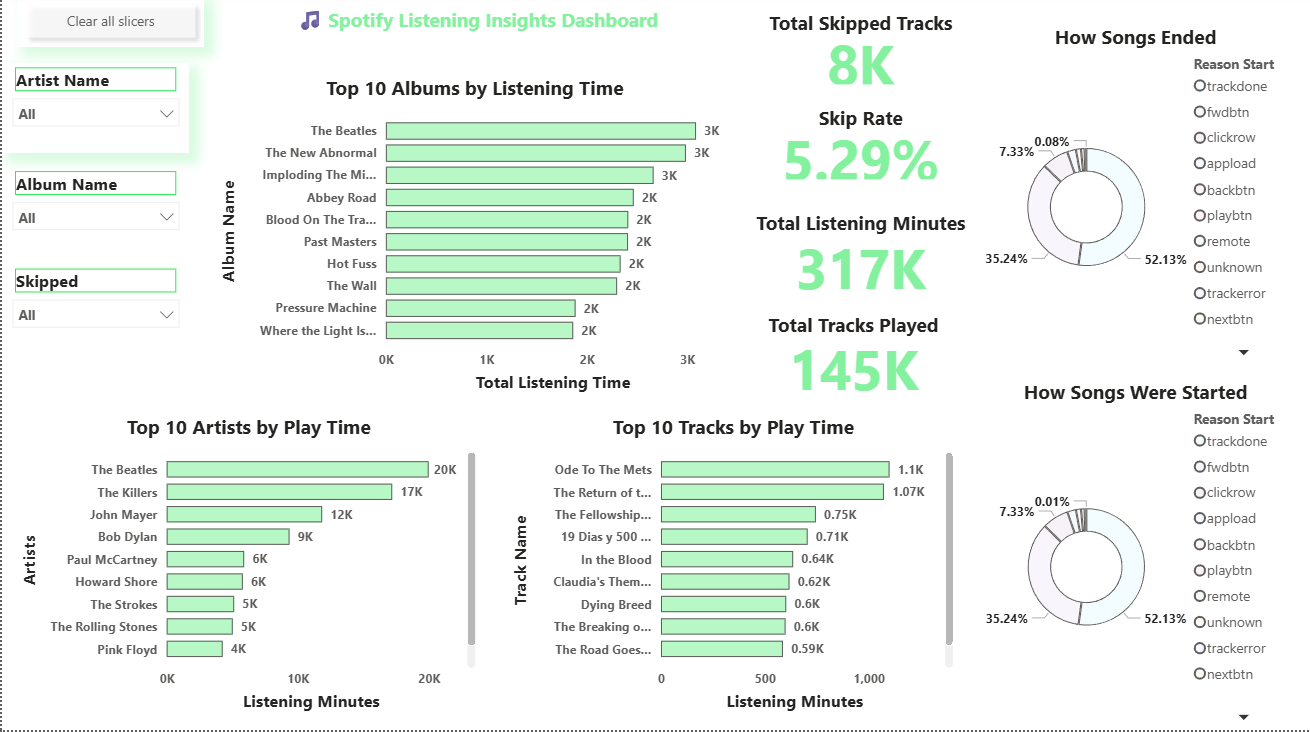

Layout of this report page (visuals, bound fields, positions):
{"tool":"powerbi","page":{"name":"Overview ","canvas":[1280,720],"ordinal":0},"visuals":[{"type":"card","title":"Total Tracks Played","fields":{"Values":["Measures (2).Total Tracks Played"]},"box":[715.8,309.5,235.4,83.5],"z":0,"group":"g1"},{"type":"card","title":"Skip Rate","fields":{"Values":["Measures (2).Skip Rate"]},"box":[731,108.2,220.2,77.8],"z":1,"group":"g1"},{"type":"card","title":"Total Skipped Tracks","fields":{"Values":["Measures (2).Skipped Tracks"]},"box":[731,15.2,220.2,77.8],"z":2,"group":"g1"},{"type":"card","title":"Total Listening Minutes","fields":{"Values":["Measures (2).Listening Minutes"]},"box":[731,210.8,220.2,85.4],"z":3,"group":"g1"},{"type":"donutChart","title":"How Songs Were Started","fields":{"Category":["spotify_cleaned.reason_start"],"Y":["Measures (2).Total Tracks Played"]},"box":[951.2,375.9,315.2,343.6],"z":4},{"type":"donutChart","title":"How Songs Ended","fields":{"Category":["spotify_cleaned.reason_start"],"Y":["Measures (2).Total Tracks Played"]},"box":[951.2,28.5,315.2,334.2],"z":5},{"type":"clusteredBarChart","title":"Top 10 Artists by Play Time","fields":{"Y":["Measures (2).Listening Minutes"],"Category":["spotify_cleaned.artist_name"]},"box":[15.2,410.1,453.8,296.2],"z":6},{"type":"clusteredBarChart","title":"Top 10 Tracks by Play Time","fields":{"Y":["Measures (2).Listening Minutes"],"Category":["spotify_cleaned.track_name"]},"box":[495.5,410.1,440.5,296.2],"z":7},{"type":"clusteredBarChart","title":"Top 10 Albums by Listening Time","fields":{"Category":["spotify_cleaned.album_name"],"Y":["Measures (2).Listening Minutes"]},"box":[208.8,77.8,506.9,315.2],"z":8},{"type":"group","id":"g1","title":"Group 1","box":[715.8,15.2,235.4,377.8],"z":9},{"type":"textbox","box":[220.2,6.3,495.5,47.5],"z":10},{"type":"slicer","fields":{"Values":["spotify_cleaned.artist_name"]},"box":[0,66.6,183.4,89.2],"z":11},{"type":"slicer","fields":{"Values":["spotify_cleaned.album_name"]},"box":[0,167.1,183.4,89.2],"z":12},{"type":"slicer","fields":{"Values":["spotify_cleaned.skipped"]},"box":[0,262.5,183.4,89.2],"z":13},{"type":"actionButton","box":[15.3,0,183.3,50.4],"z":14}]}

Visuals, with their boxes in screenshot pixels (x1, y1, x2, y2), scaled from the page's 1280x720 canvas onto the 1310x732 screenshot:
"Total Tracks Played" card: bbox=(733, 315, 973, 400)
"Skip Rate" card: bbox=(748, 110, 973, 189)
"Total Skipped Tracks" card: bbox=(748, 15, 973, 95)
"Total Listening Minutes" card: bbox=(748, 214, 973, 301)
"How Songs Were Started" donutChart: bbox=(973, 382, 1296, 731)
"How Songs Ended" donutChart: bbox=(973, 29, 1296, 369)
"Top 10 Artists by Play Time" clusteredBarChart: bbox=(16, 417, 480, 718)
"Top 10 Tracks by Play Time" clusteredBarChart: bbox=(507, 417, 958, 718)
"Top 10 Albums by Listening Time" clusteredBarChart: bbox=(214, 79, 732, 400)
"Group 1" group: bbox=(733, 15, 973, 400)
textbox: bbox=(225, 6, 732, 55)
slicer - spotify_cleaned.artist_name: bbox=(0, 68, 188, 158)
slicer - spotify_cleaned.album_name: bbox=(0, 170, 188, 261)
slicer - spotify_cleaned.skipped: bbox=(0, 267, 188, 358)
actionButton: bbox=(16, 0, 203, 51)
